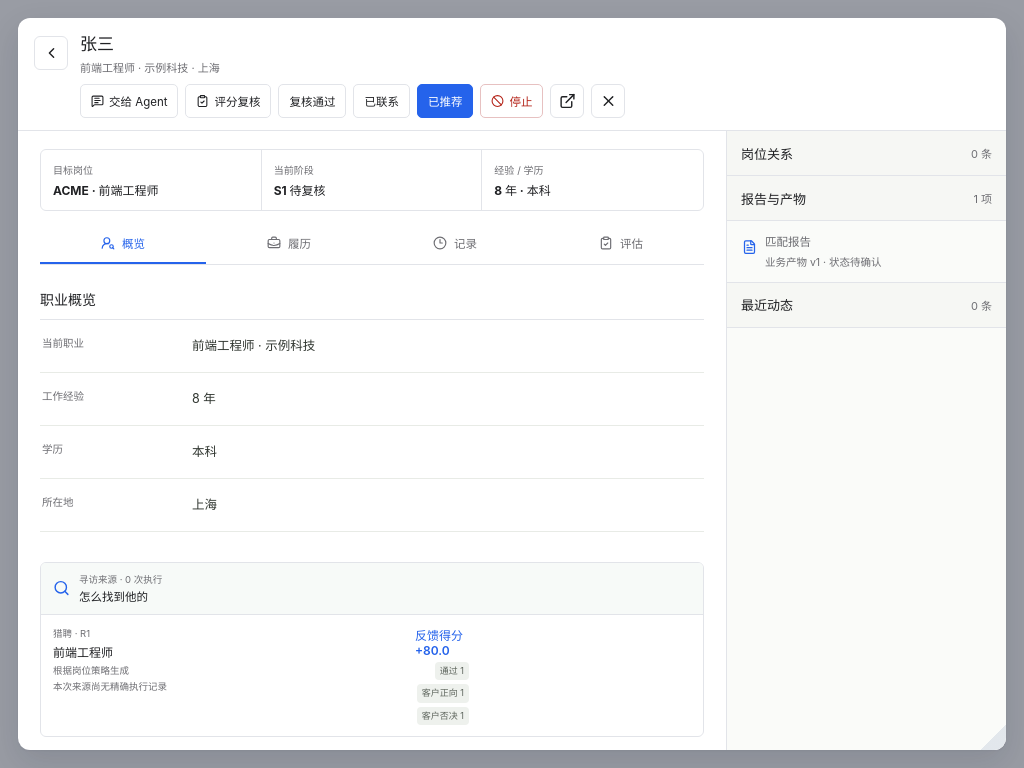
Test case: 顾问确认推荐（recommendation-decision） › 常用理由快捷按钮填入推荐理由
Click the button "已推荐": coordinates (445, 101) [417, 84, 474, 118]
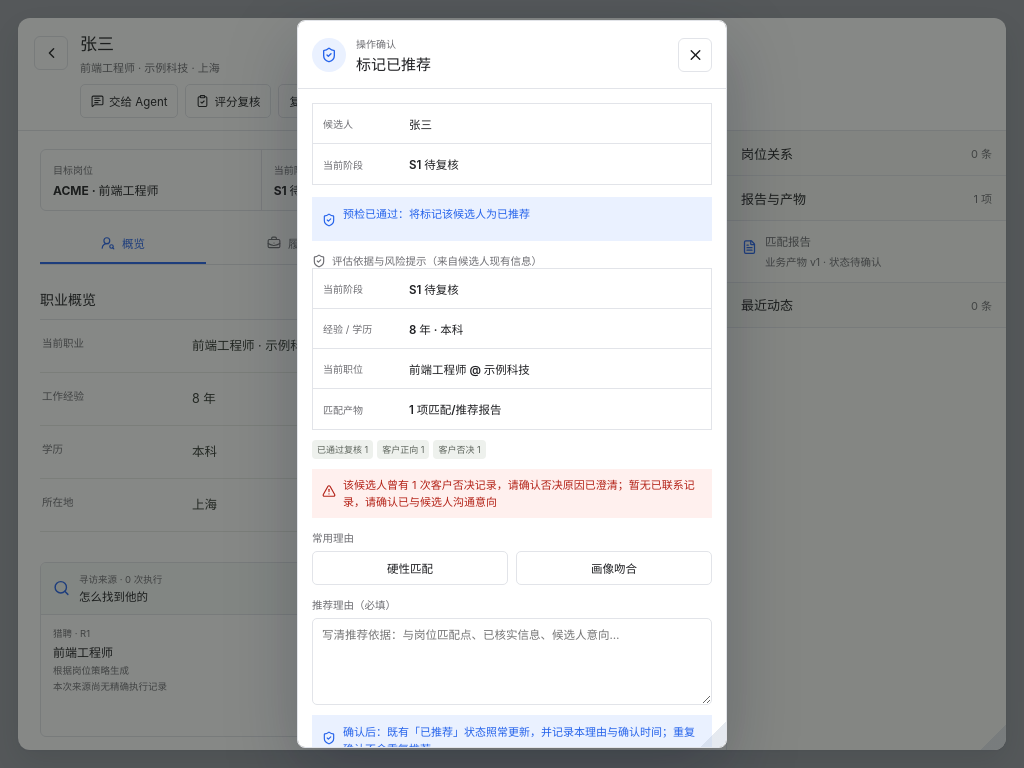
Click the button "硬性匹配": coordinates (410, 568) [312, 551, 508, 585]
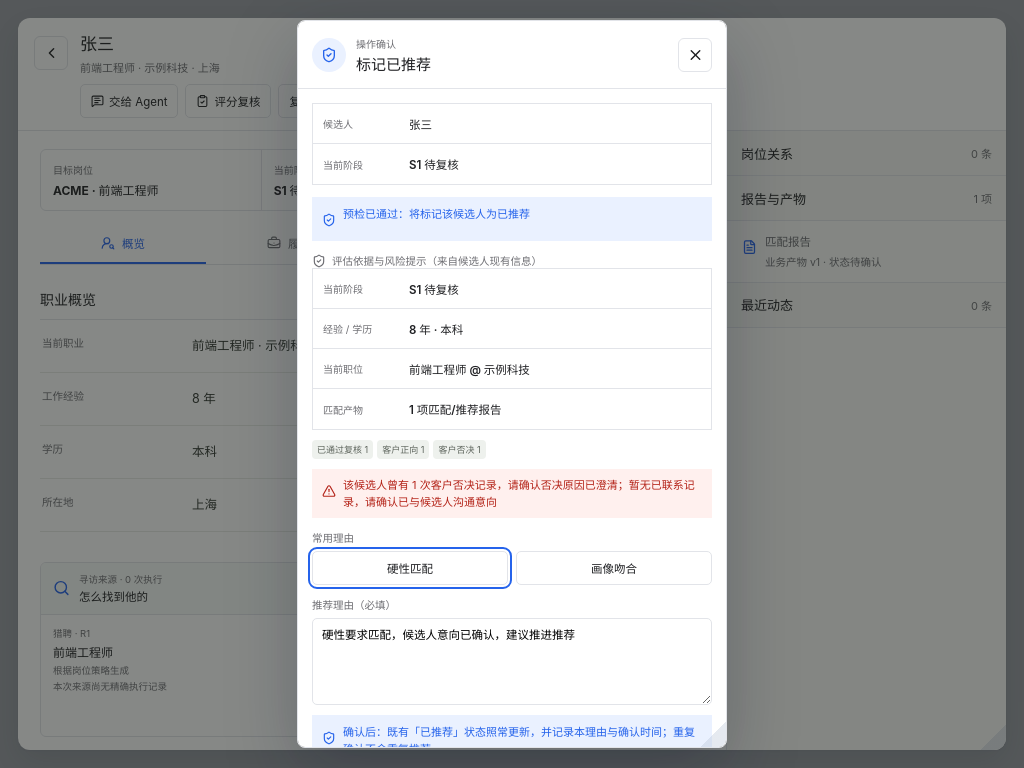
Check: the text box labelled "推荐理由（必填）" holds "硬性要求匹配，候选人意向已确认，建议推进推荐", box [312, 618, 712, 705]
